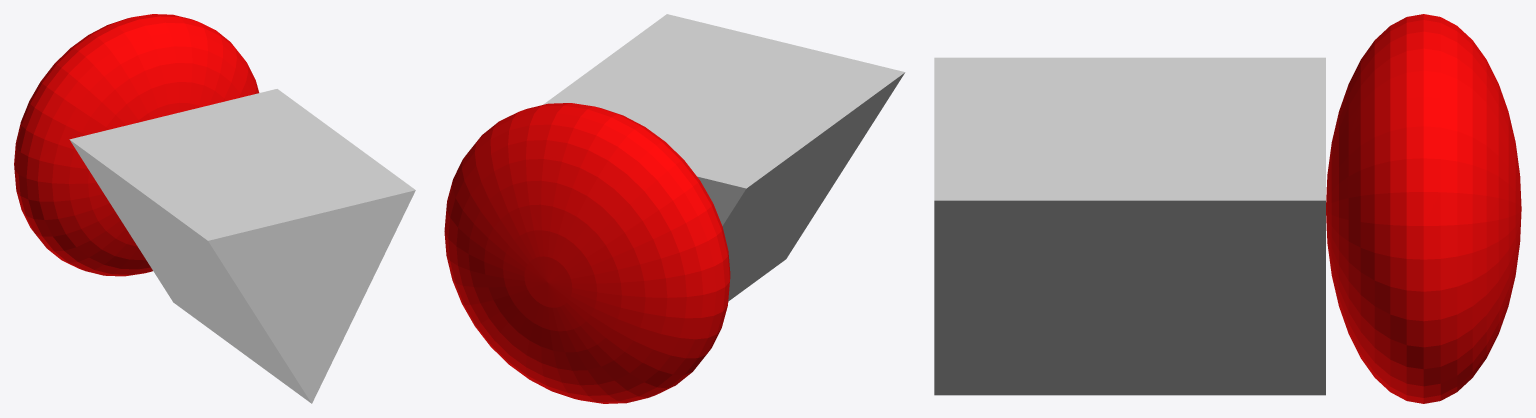
Rendered from Item Pickup.obj.
3 renders of one model, left to right at view 1: azimuth 30°, elevation 25°; view 2: azimuth 150°, elevation 25°; view 3: azimuth 270°, elevation 25°, orthographic. The views are drawn at different scales.
Visible parts, largest first — view 1: group_0_16777215, group_0_16711680; view 2: group_0_16711680, group_0_16777215; view 3: group_0_16777215, group_0_16711680.
Boxes of the visible parts, bbox=[...] form: group_0_16777215: bbox=[69, 89, 415, 403]; group_0_16711680: bbox=[14, 14, 259, 276]; group_0_16711680: bbox=[444, 103, 730, 403]; group_0_16777215: bbox=[543, 14, 905, 301]; group_0_16777215: bbox=[934, 57, 1325, 395]; group_0_16711680: bbox=[1326, 14, 1521, 403].
Bounding box in the file's own units: 20 × 20.5 × 30.
